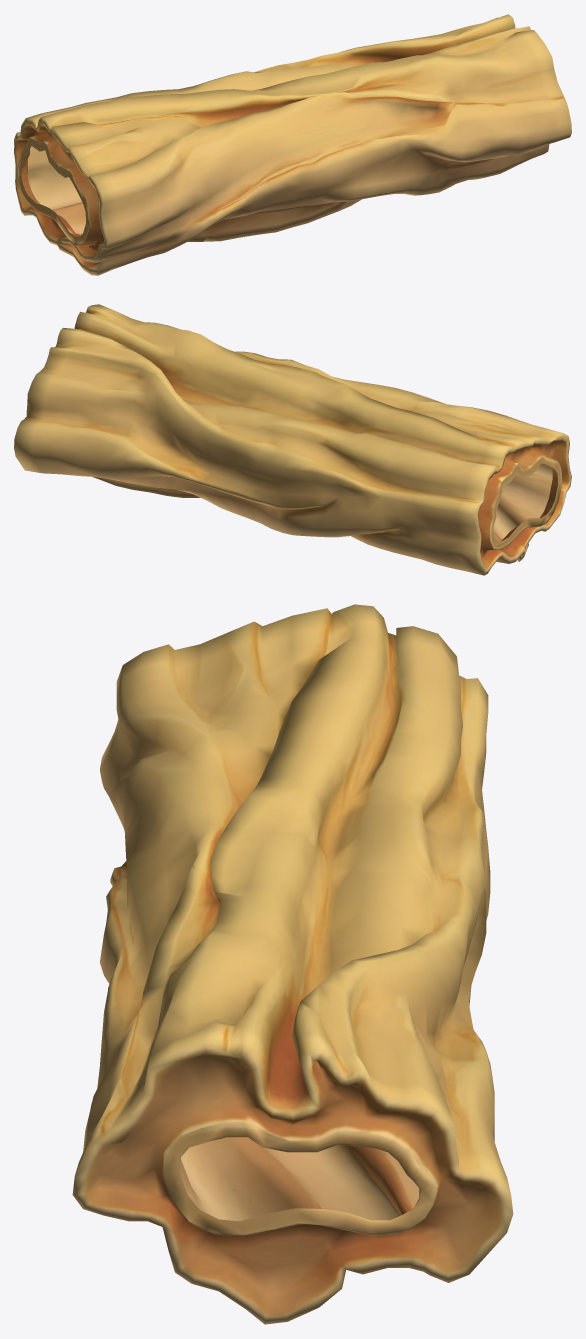
File: optimized_glb.glb
3 renders of one model, top to bottom at view 1: azimuth 30°, elevation 25°; view 2: azimuth 150°, elevation 25°; view 3: azimuth 270°, elevation 25°, orthographic. The views are drawn at different scales.
Visible parts, largest first — view 1: Tofu Skin; view 2: Tofu Skin; view 3: Tofu Skin.
Boxes of the visible parts, <box> form: Tofu Skin: <box>14,14,571,275</box>; Tofu Skin: <box>14,304,571,575</box>; Tofu Skin: <box>72,604,513,1324</box>.
Bounding box in the file's own units: 0.998 × 0.291 × 0.4121.
Materials: 1 (1 with a texture image).
